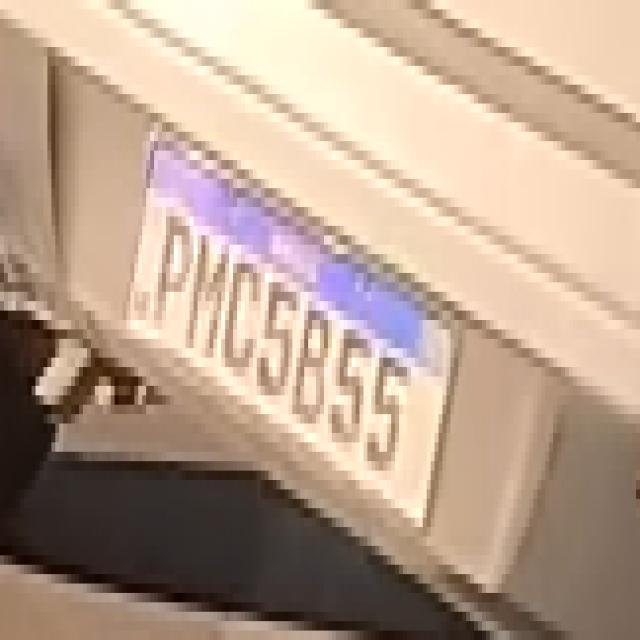Placa_mercosul_carro: (127, 124, 462, 535)
